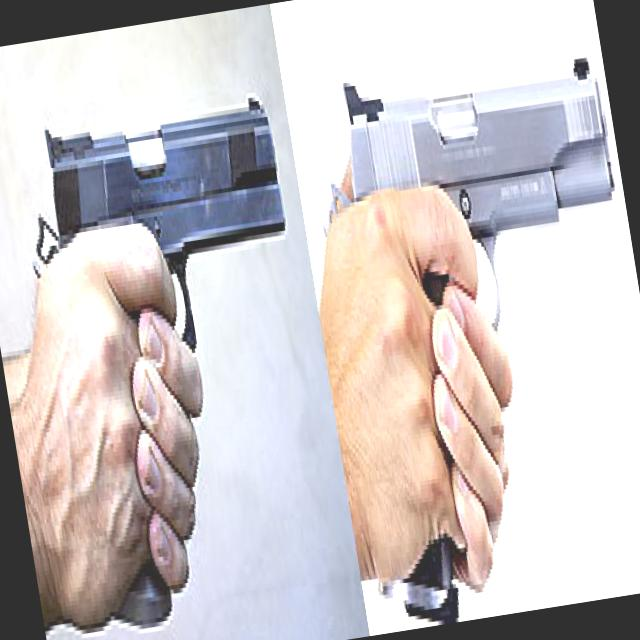handgun: (291, 22, 639, 602), (8, 53, 342, 632)
